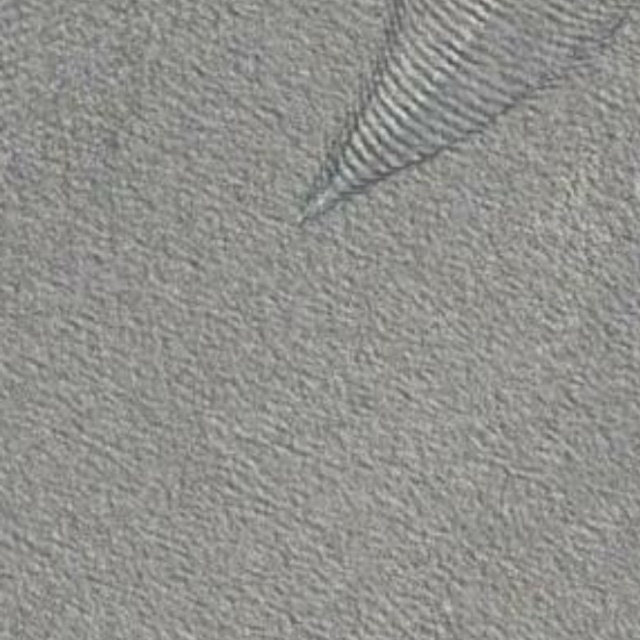wake: (247, 1, 519, 282)
